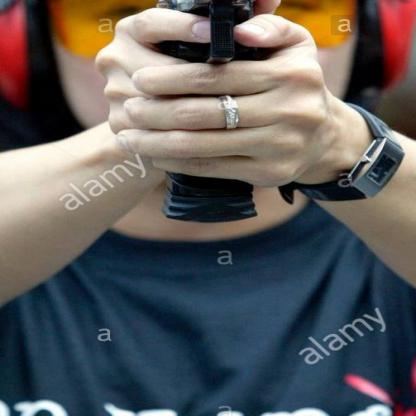gun: (122, 0, 321, 232)
